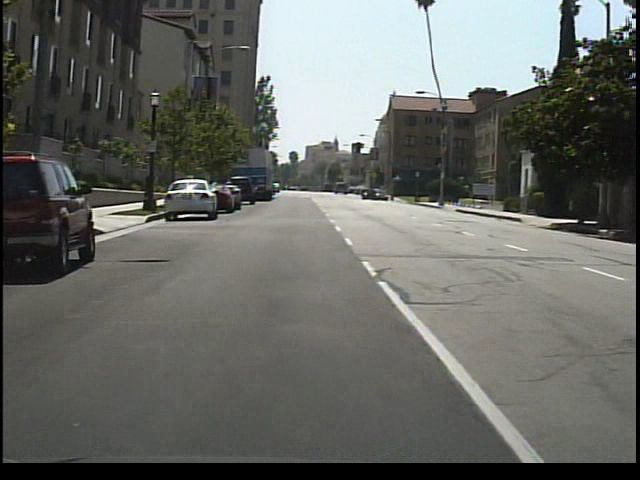person: (139, 167, 157, 213)
